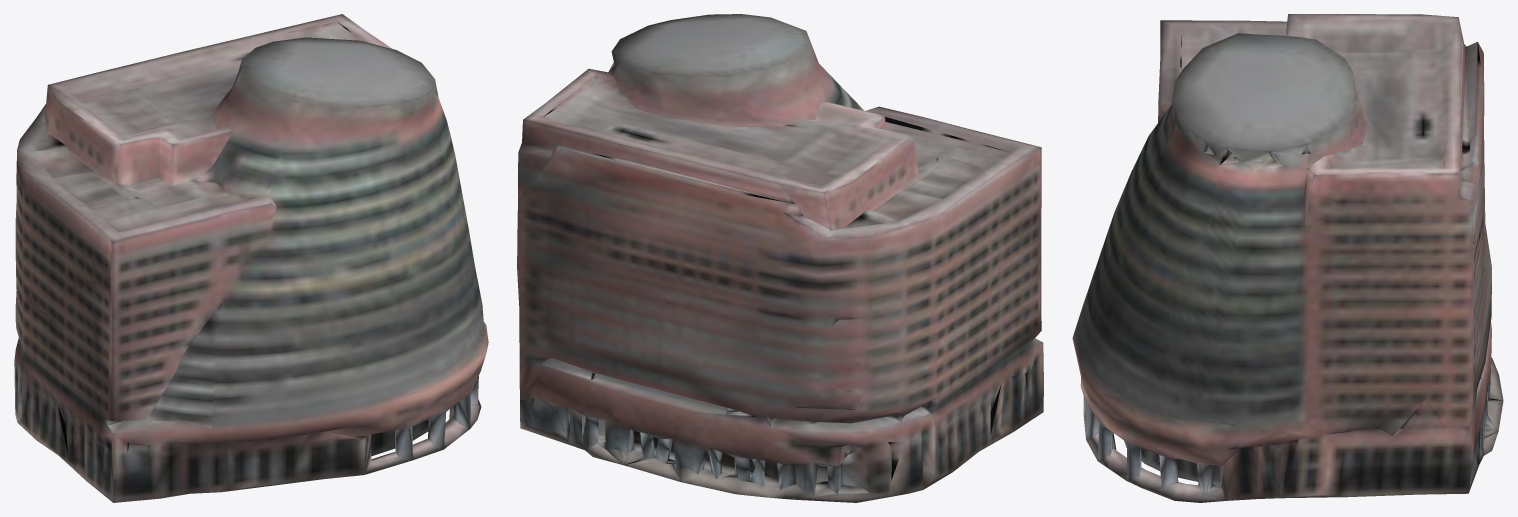
File: thompson_center.glb
3 renders of one model, left to right at view 1: azimuth 30°, elevation 25°; view 2: azimuth 150°, elevation 25°; view 3: azimuth 270°, elevation 25°, orthographic. The views are drawn at different scales.
Visible parts, largest first — view 1: thompson_center; view 2: thompson_center; view 3: thompson_center.
Boxes of the visible parts, x1,y1,x2,y2 form: thompson_center: (14, 14, 488, 502); thompson_center: (517, 14, 1043, 502); thompson_center: (1072, 14, 1503, 502).
Bounding box in the file's own units: 113 × 94 × 99.
Materials: 1 (1 with a texture image).
